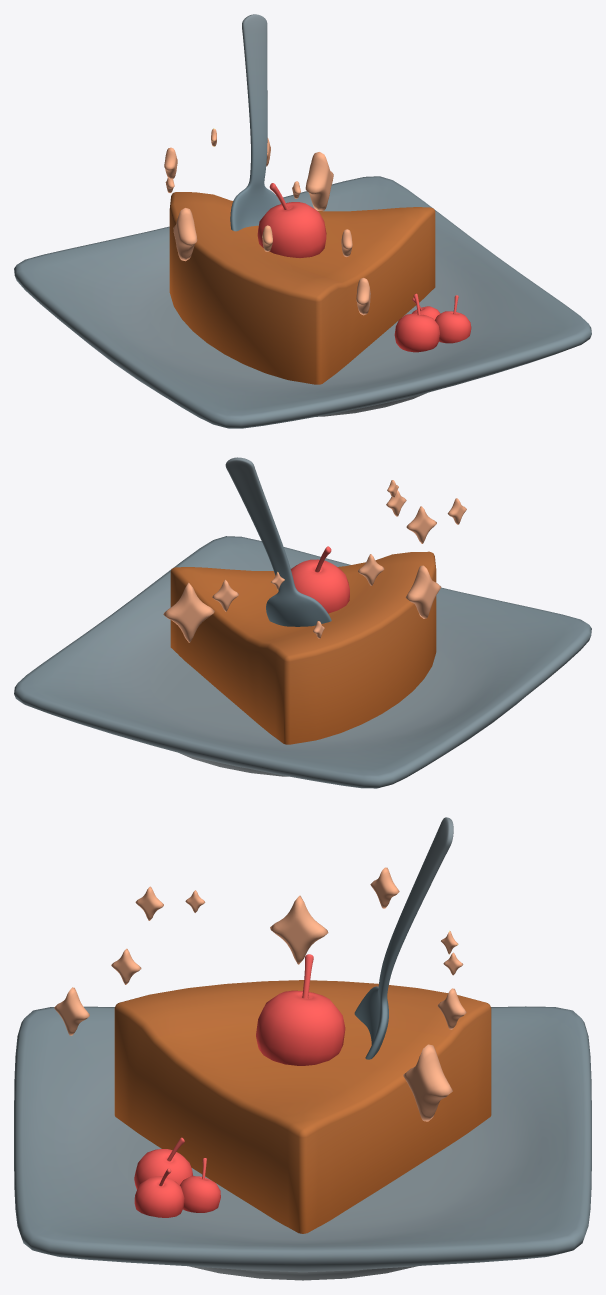
File: QuesilloSKF.fbx
3 renders of one model, top to bottom at view 1: azimuth 30°, elevation 25°; view 2: azimuth 150°, elevation 25°; view 3: azimuth 270°, elevation 25°, orthographic. The views are drawn at different scales.
Visible parts, largest first — view 1: Quesillo; view 2: Quesillo; view 3: Quesillo.
Boxes of the visible parts, left/top/right/bottom form: Quesillo: left=14, top=14, right=591, bottom=428; Quesillo: left=14, top=457, right=591, bottom=788; Quesillo: left=14, top=817, right=591, bottom=1280.
Bounding box in the file's own units: 168 × 121 × 168.
